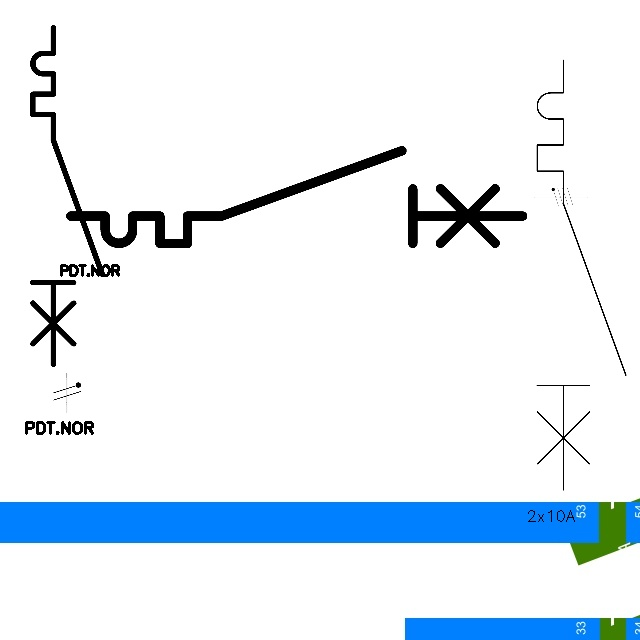interruptor_termomagnetico: (59, 139, 534, 255), (526, 49, 636, 501), (24, 19, 110, 373)
